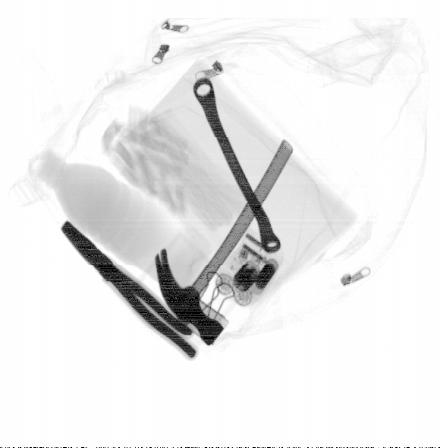Hammer: (153, 136, 295, 344)
Pliers: (58, 218, 198, 359)
Wrench: (192, 79, 282, 252)
